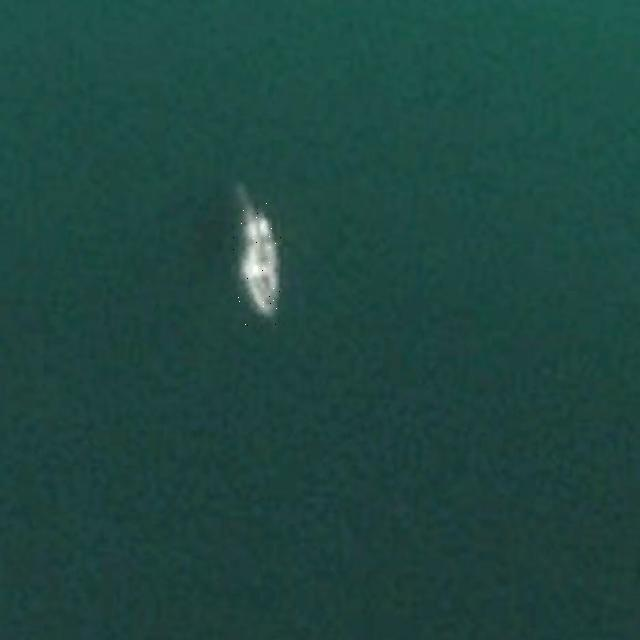boat: (233, 201, 287, 326)
